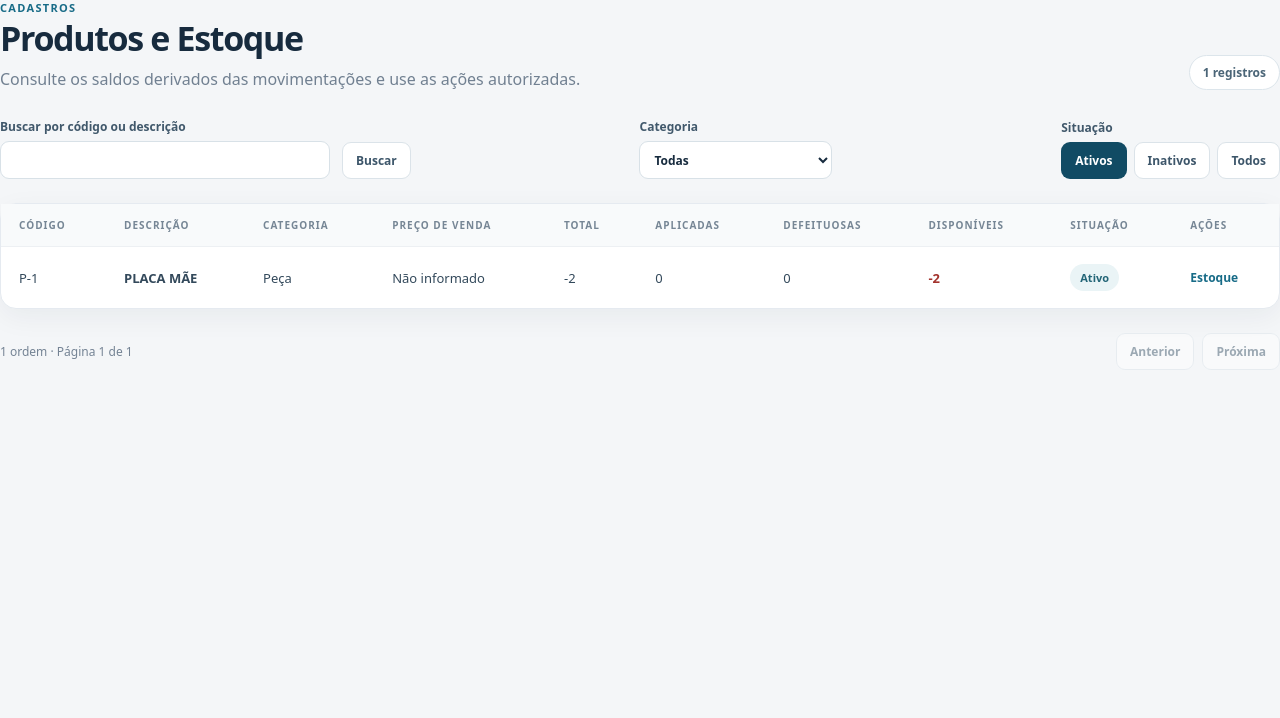
Scenario: ProductCatalogPage › gestor de estoque consulta saldo/histórico sem administrar o cadastro
This screenshot has width=1280, height=718.
Expected: the text "PLACA MÃE" is shown, [124, 268, 197, 286]
Expected: the text "-2" is shown 2 times, [546, 246, 637, 308]; [910, 246, 1052, 308]
Click the button "Estoque": (1214, 278) [1190, 269, 1238, 286]
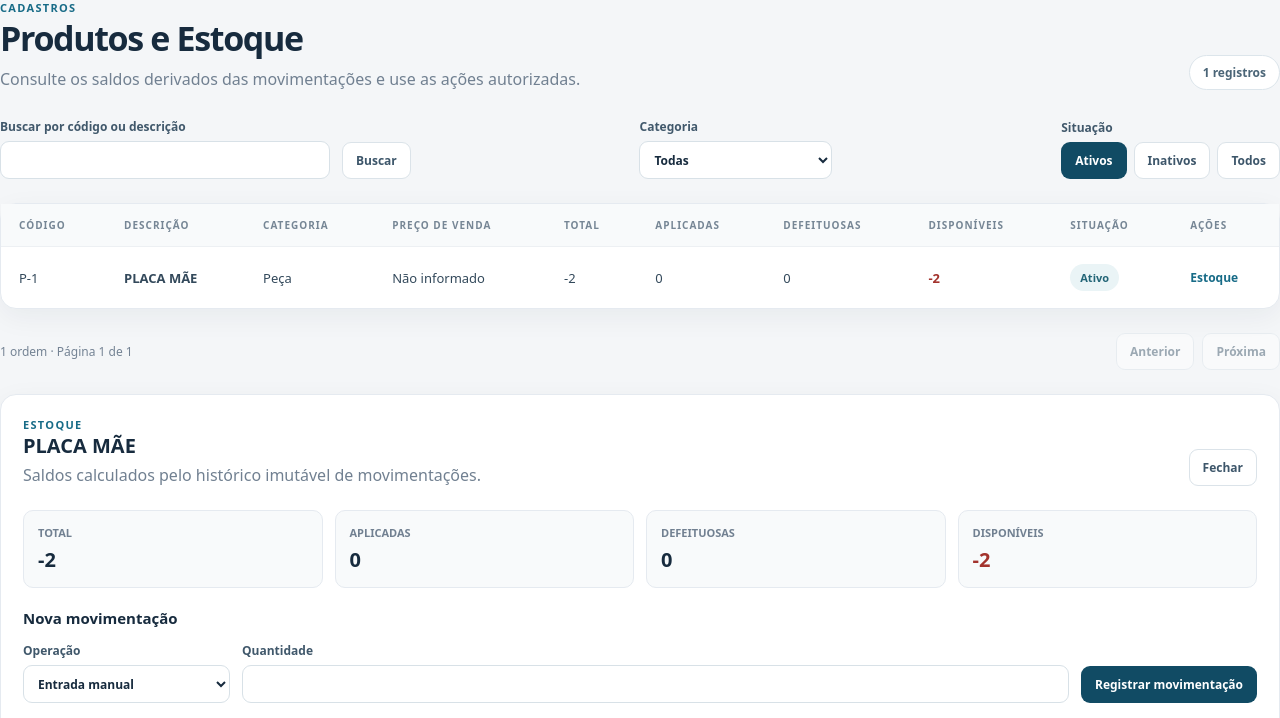
Expected: the button "Registrar movimentação" is shown, [1081, 666, 1257, 703]
